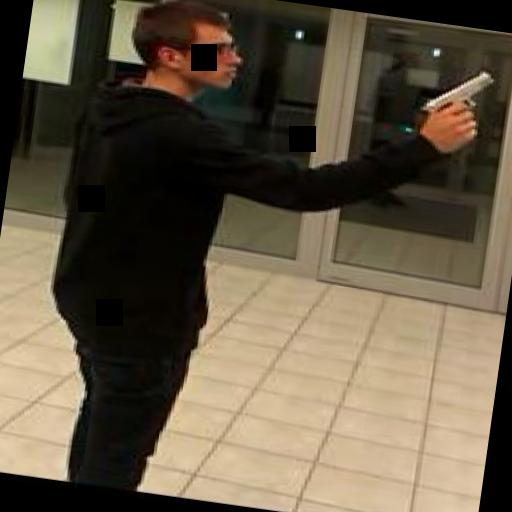Handgun: (414, 61, 492, 140)
